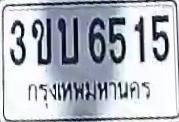1: (134, 16, 144, 63)
3: (8, 19, 25, 65)
5: (152, 15, 170, 61), (108, 17, 126, 63)
6: (88, 17, 105, 63)
A02: (31, 18, 51, 64)
A26: (57, 16, 78, 63)
BKK: (26, 79, 154, 107)
